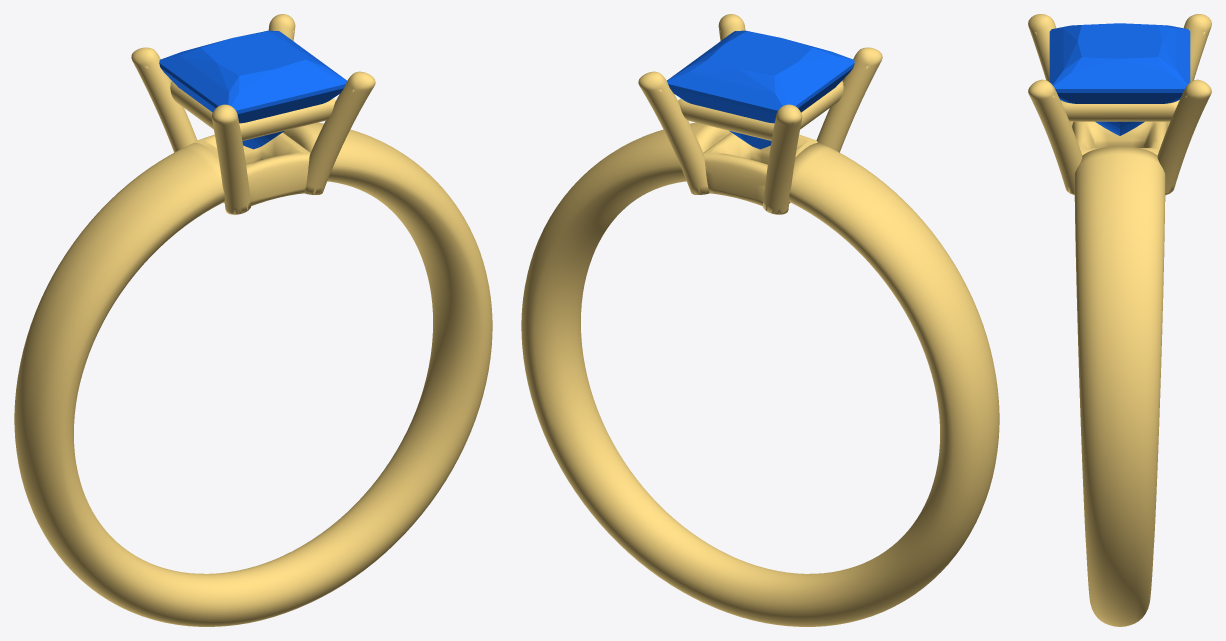
The model's file is bluesapphire-princess-yellowgold-4prong-taperedband-solitaire.glb.
3 views of the same model, side by side, from view 1: azimuth 30°, elevation 25°; view 2: azimuth 150°, elevation 25°; view 3: azimuth 270°, elevation 25° (orthographic).
Visible parts, largest first — view 1: metal, stone; view 2: metal, stone; view 3: metal, stone.
Part boxes in pixels (<box>): metal: <box>14,14,492,626</box>; stone: <box>159,30,346,149</box>; metal: <box>521,14,999,626</box>; stone: <box>667,30,854,149</box>; metal: <box>1028,14,1211,626</box>; stone: <box>1049,23,1190,135</box>.
Size of the model in its own units: 20.5 by 23.85 by 7.08.
